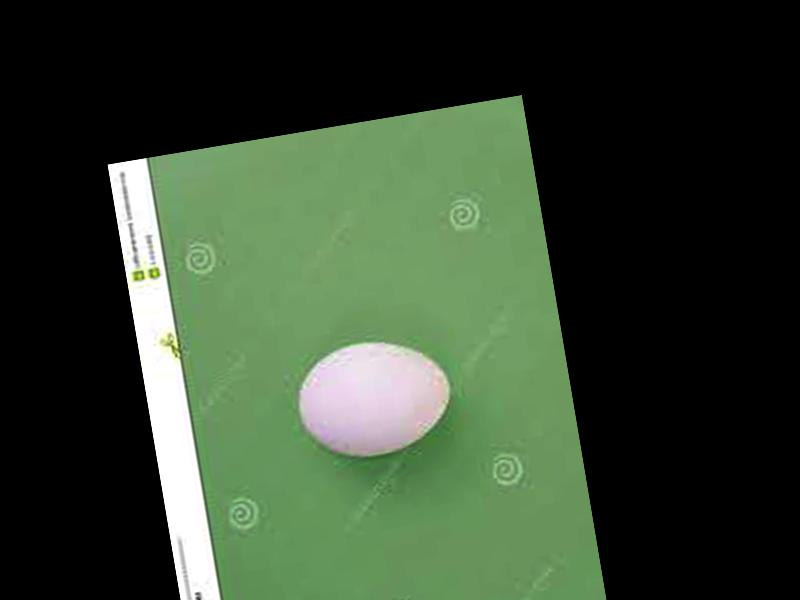Eggs: (291, 332, 457, 468)
